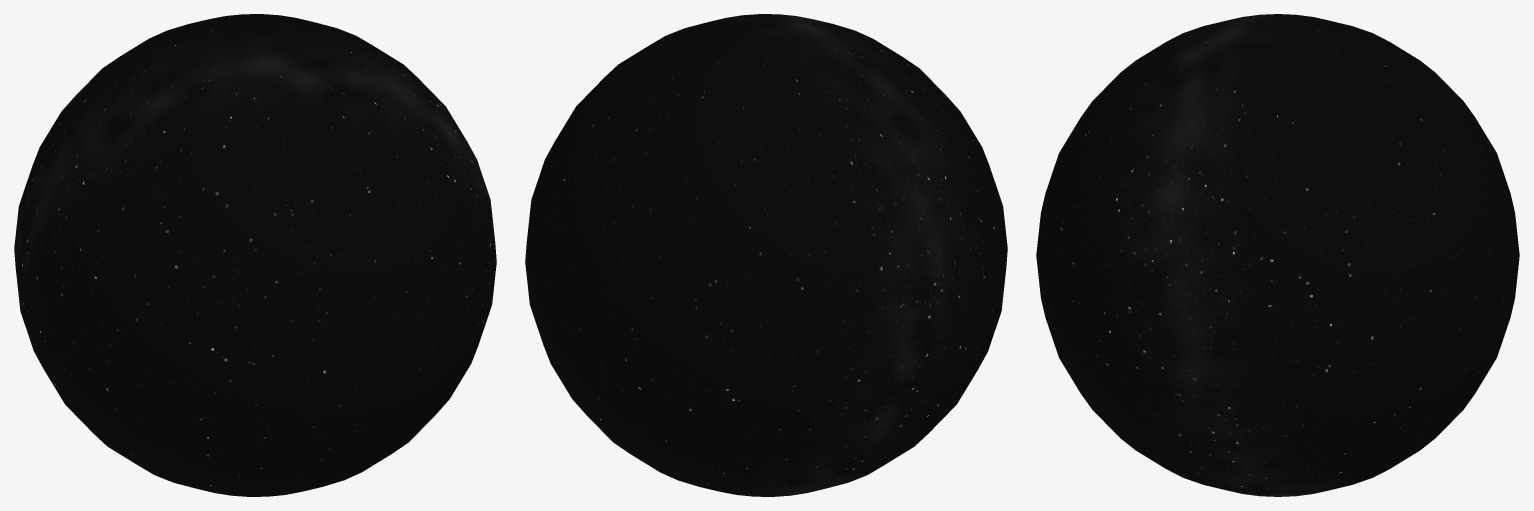
Rendered from buraco-negro-m.glb.
The picture shows the model from 3 angles, left to right: view 1: azimuth 30°, elevation 25°; view 2: azimuth 150°, elevation 25°; view 3: azimuth 270°, elevation 25°; orthographic projection.
Visible parts, largest first — view 1: ceu; view 2: ceu; view 3: ceu.
Boxes of the visible parts, bbox=[...] form: ceu: bbox=[14, 14, 496, 496]; ceu: bbox=[525, 14, 1007, 496]; ceu: bbox=[1036, 14, 1519, 496].
Size of the model in its own units: 400 by 400 by 400.
3 materials, 2 textured.
